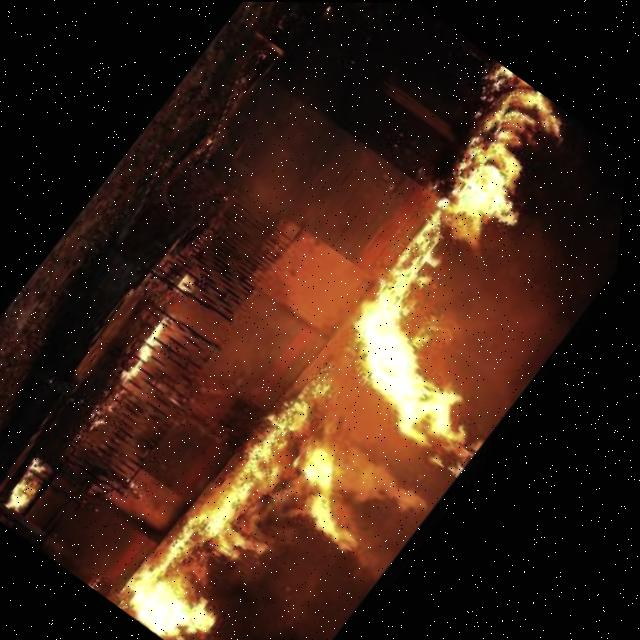Fire: (103, 61, 636, 640), (88, 304, 211, 445), (1, 436, 86, 527), (175, 249, 231, 304)
